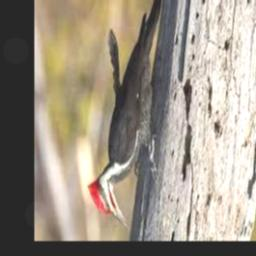Woodpecker: (87, 0, 167, 230)
